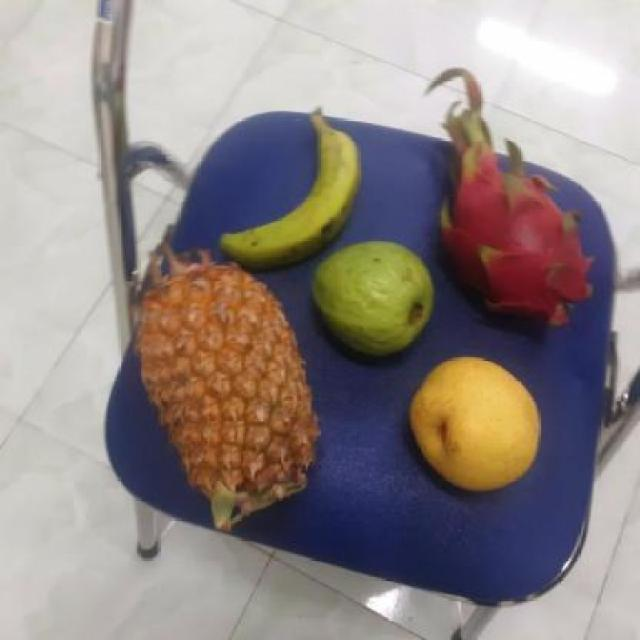dragon fruit: (434, 144, 588, 333)
guava: (306, 236, 434, 362)
pear: (401, 355, 545, 490)
pineapple: (120, 250, 312, 524)
